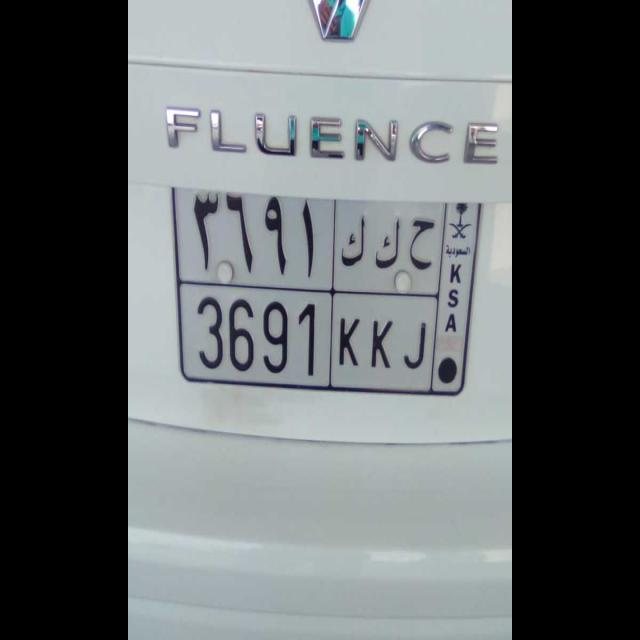license_plate: (177, 280, 437, 394)
